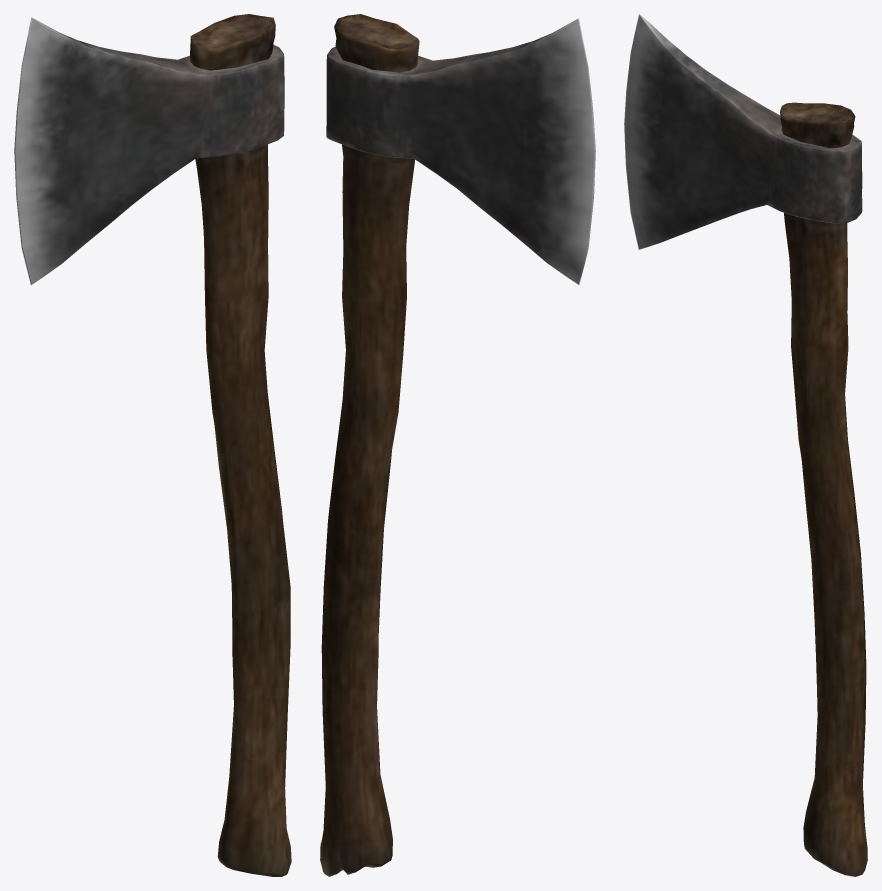
File: weapon-wp_a_0700.glb
The picture shows the model from 3 angles, left to right: view 1: azimuth 30°, elevation 25°; view 2: azimuth 150°, elevation 25°; view 3: azimuth 330°, elevation 25°; orthographic projection. The views are drawn at different scales.
Visible parts, largest first — view 1: wp_a_0700_mesh; view 2: wp_a_0700_mesh; view 3: wp_a_0700_mesh.
Boxes of the visible parts, x1,y1,x2,y2 form: wp_a_0700_mesh: (14, 14, 291, 876); wp_a_0700_mesh: (320, 14, 595, 876); wp_a_0700_mesh: (624, 14, 867, 876).
Bounding box in the file's own units: 0.2619 × 0.8369 × 0.0511.
Materials: 2 (2 with a texture image).
